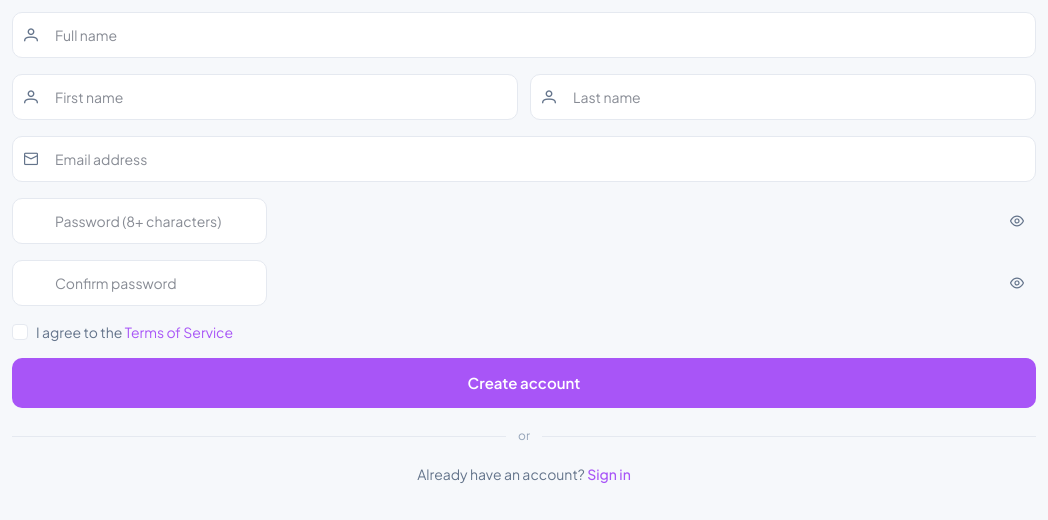
Test: RegisterForm › shows terms error when checkbox unchecked on submit
Type "Alice" into the field with placeholder "Full name" at (524, 35), box top-left (12, 12), bottom-right (1036, 58)
Type "Alice" into the field with placeholder "First name" at (265, 97), box top-left (12, 74), bottom-right (518, 120)
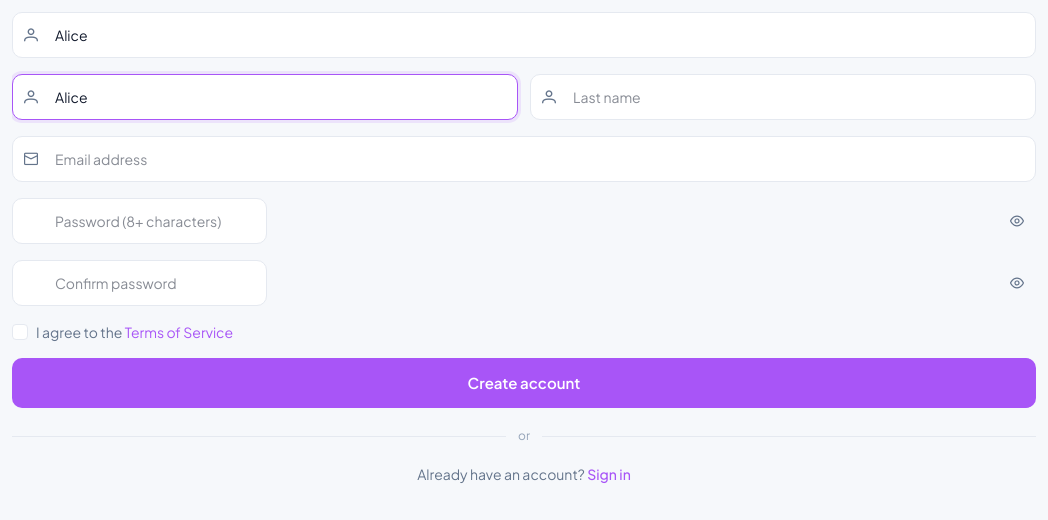
Type "Anderson" into the field with placeholder "Last name" at (783, 97), box top-left (530, 74), bottom-right (1036, 120)
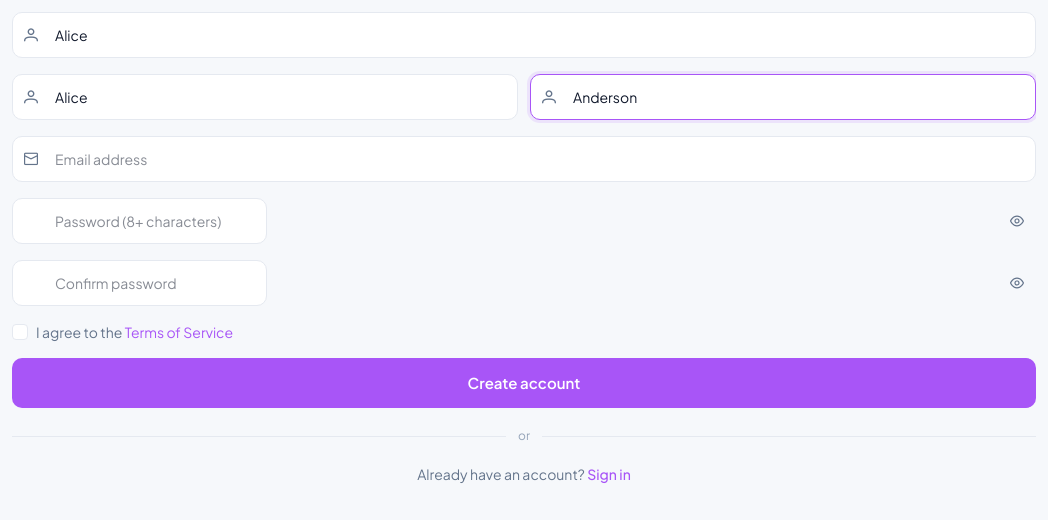
Type "alice@example.com" into the field with placeholder "Email address" at (524, 159), box top-left (12, 136), bottom-right (1036, 182)
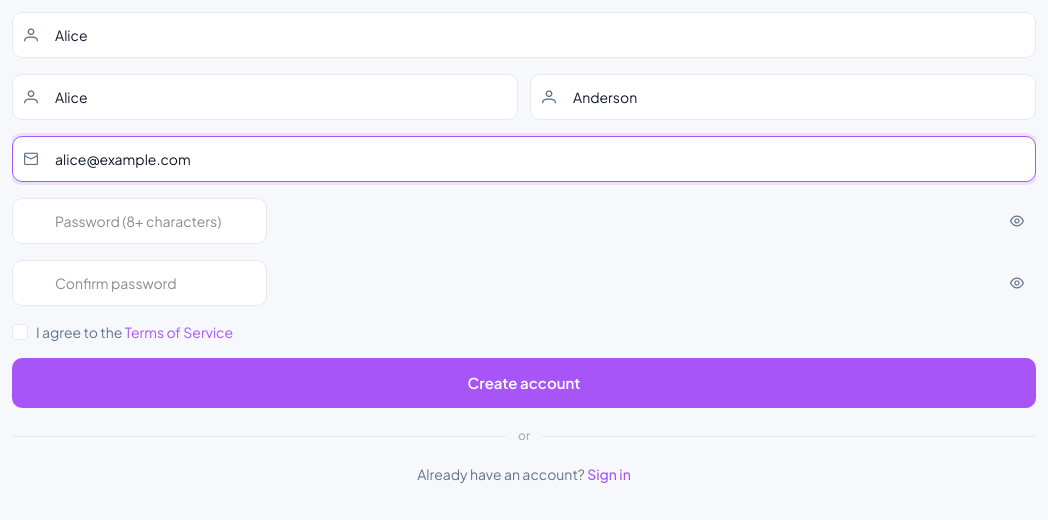
Type "Pass1word!" into the password field with placeholder "Password (8+ characters)" at (140, 221), box top-left (12, 198), bottom-right (267, 244)
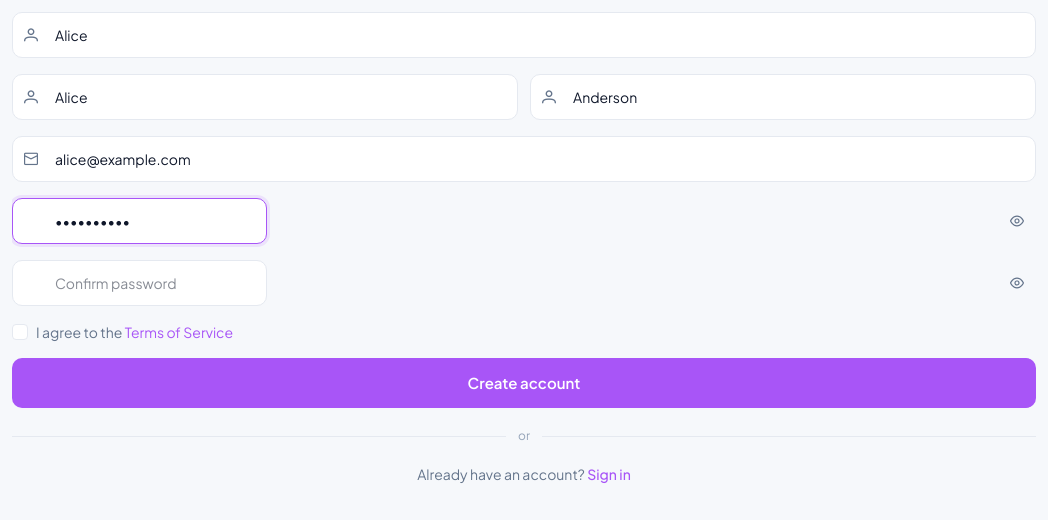
Type "Pass1word!" into the password field with placeholder "Confirm password" at (140, 283), box top-left (12, 260), bottom-right (267, 306)
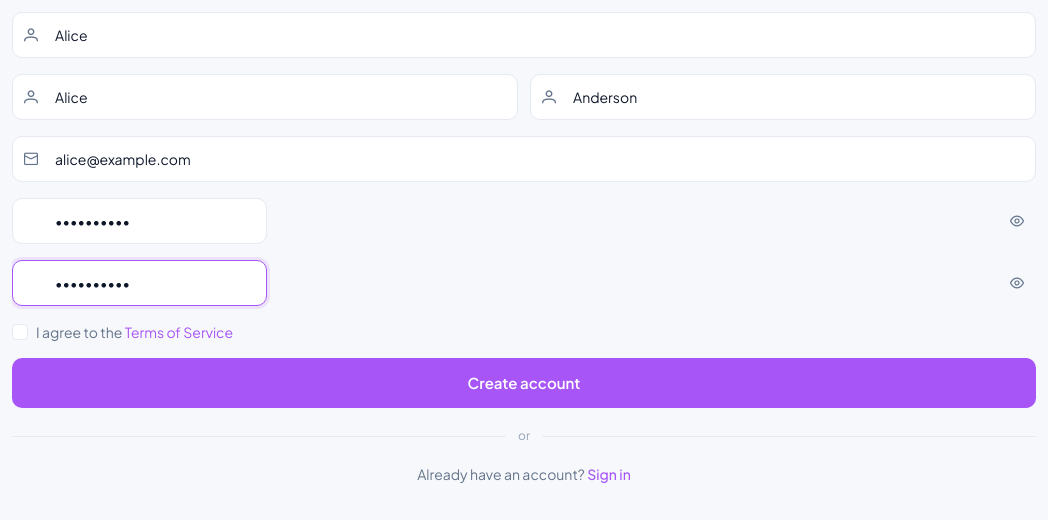
Click the button "Create account" at (524, 383), box top-left (12, 358), bottom-right (1036, 408)
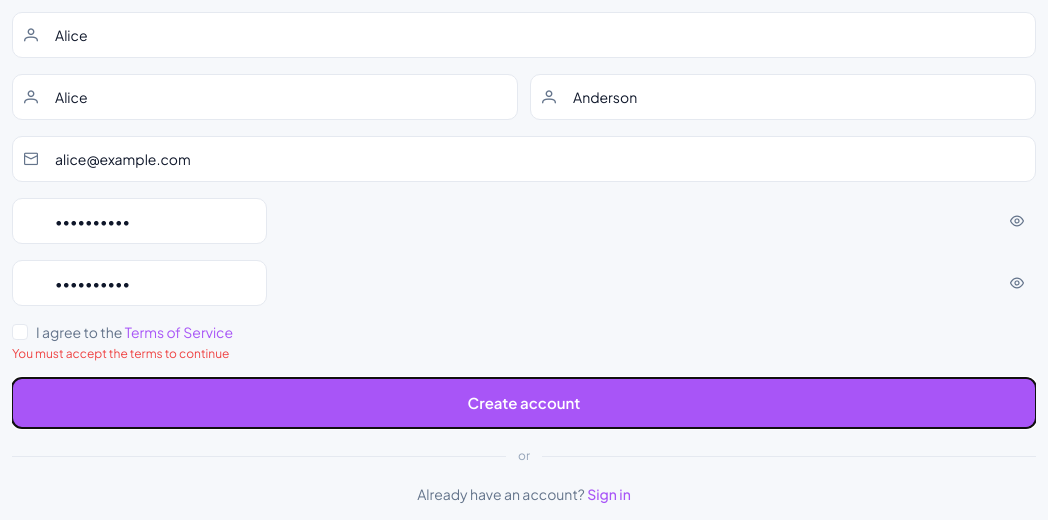
Check: the text "You must accept the terms to continue" is shown, box top-left (12, 346), bottom-right (230, 361)
